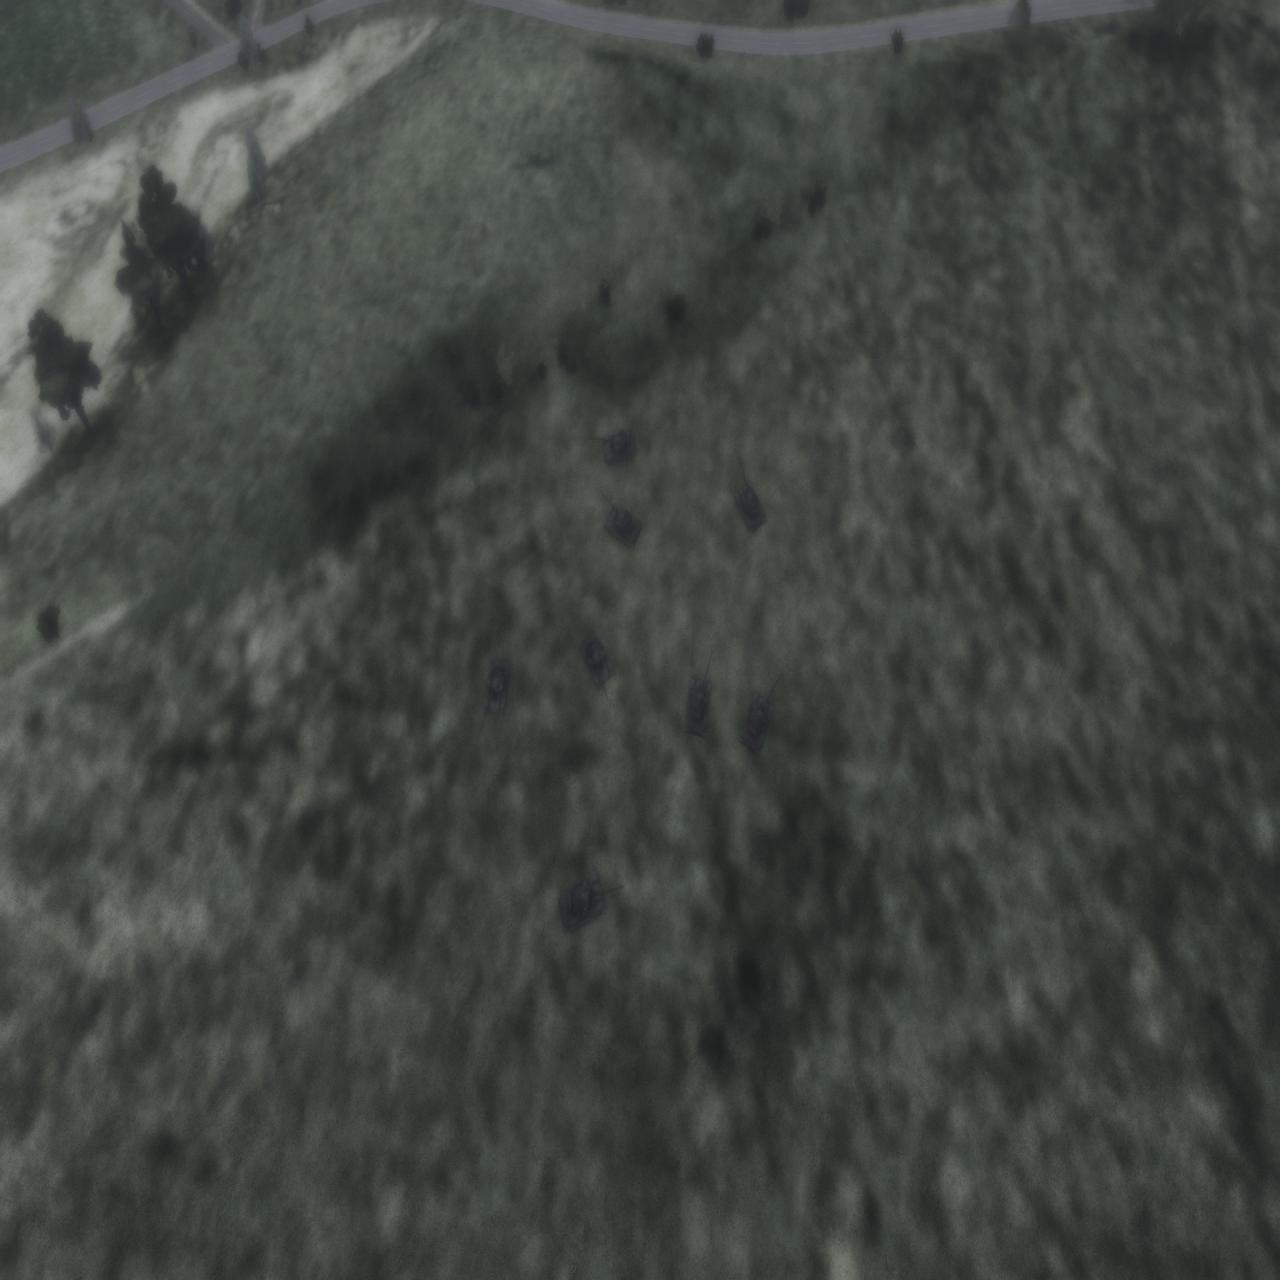MIL_Veh: (554, 870, 624, 927), (741, 669, 783, 761), (597, 484, 642, 550), (731, 452, 765, 537), (584, 423, 639, 468), (688, 648, 713, 733), (482, 653, 509, 729), (579, 629, 611, 693)
